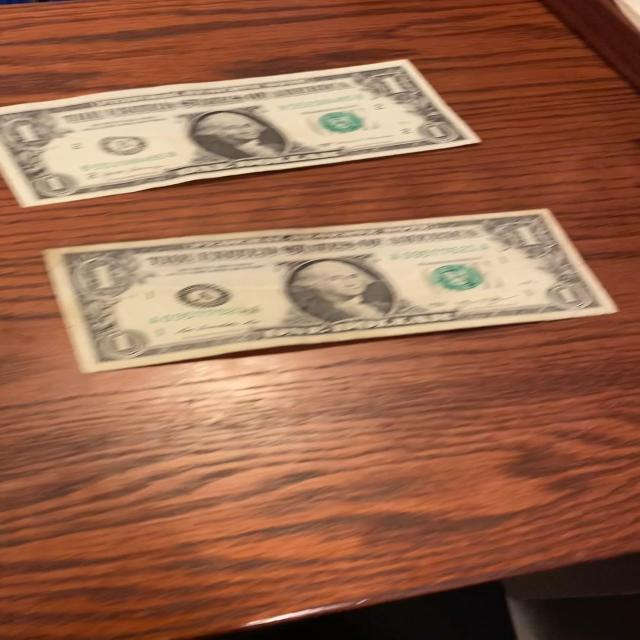1-Front: (41, 204, 619, 376), (0, 56, 484, 210)
